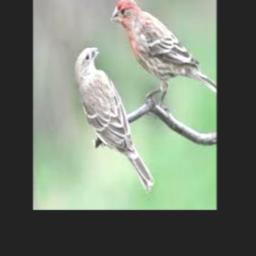Sparrow: (75, 47, 154, 193), (111, 0, 217, 108)
